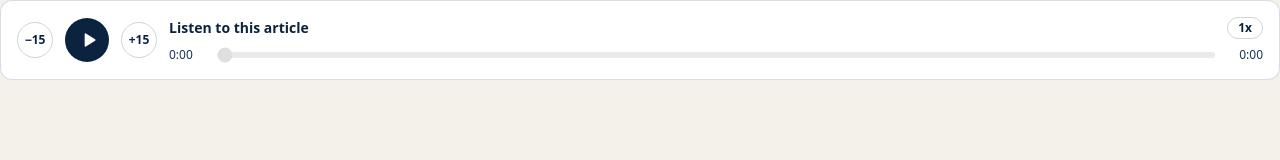
AudioPlayer › cycles playback speed
Click the button named "Playback speed 1x": click(1245, 28) [1227, 17, 1263, 39]
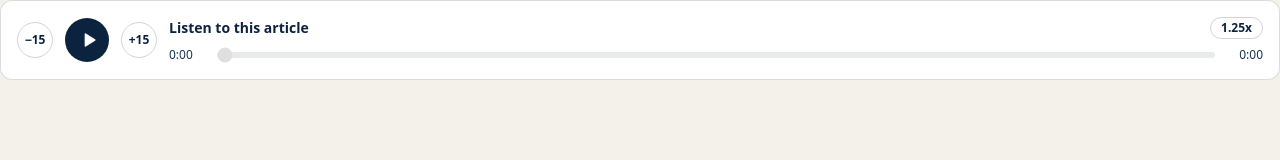
Now the button named "Playback speed 1.25x" is shown, box [1210, 17, 1263, 39]
